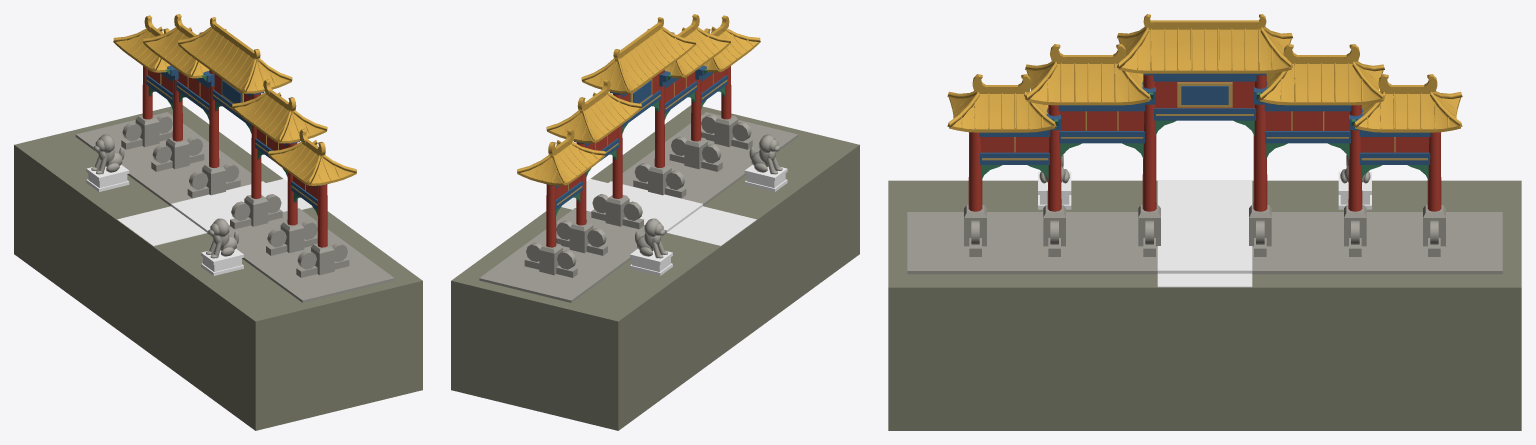
The model's file is top-prebuilt.fbx.
3 views of the same model, side by side, from view 1: azimuth 30°, elevation 25°; view 2: azimuth 150°, elevation 25°; view 3: azimuth 270°, elevation 25° (orthographic). The views are drawn at different scales.
Visible parts, largest first — view 1: landmark-grand_paifang/0/top-prebuilt; view 2: landmark-grand_paifang/0/top-prebuilt; view 3: landmark-grand_paifang/0/top-prebuilt.
Boxes of the visible parts, left/top/right/bottom form: landmark-grand_paifang/0/top-prebuilt: left=14, top=14, right=422, bottom=430; landmark-grand_paifang/0/top-prebuilt: left=451, top=14, right=859, bottom=430; landmark-grand_paifang/0/top-prebuilt: left=888, top=14, right=1521, bottom=430.
Bounding box in the file's own units: 16 × 26 × 40.
